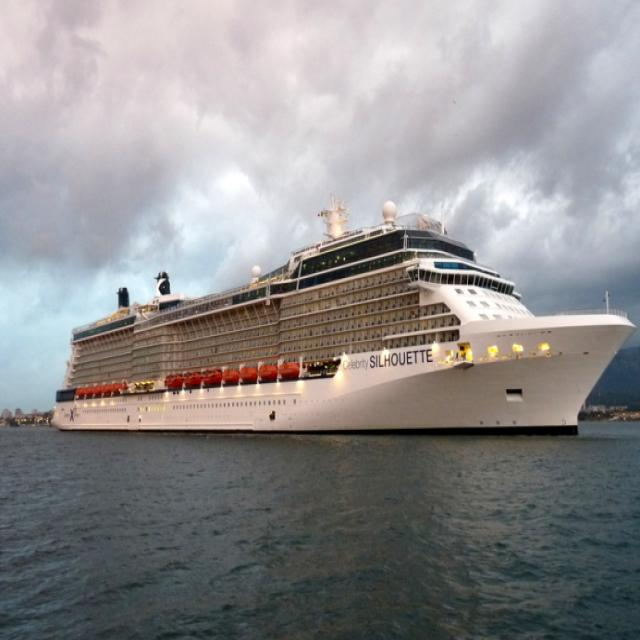cruises: (43, 185, 640, 450)
